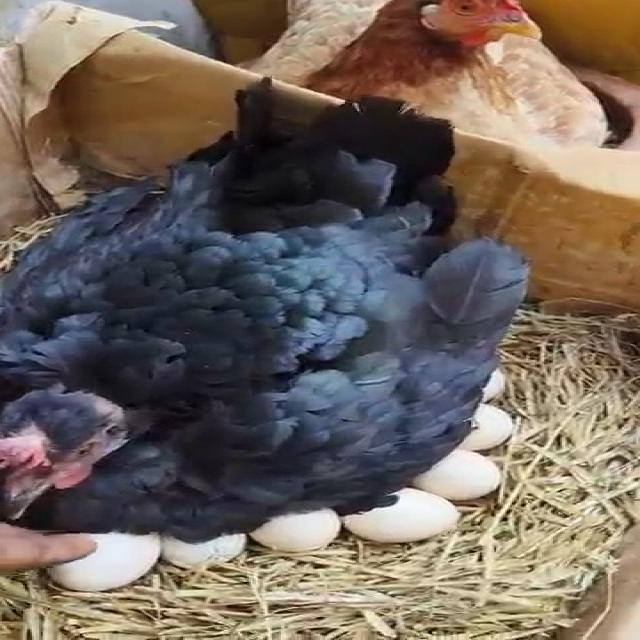crouch chicken: (0, 86, 533, 540), (295, 0, 640, 152)
